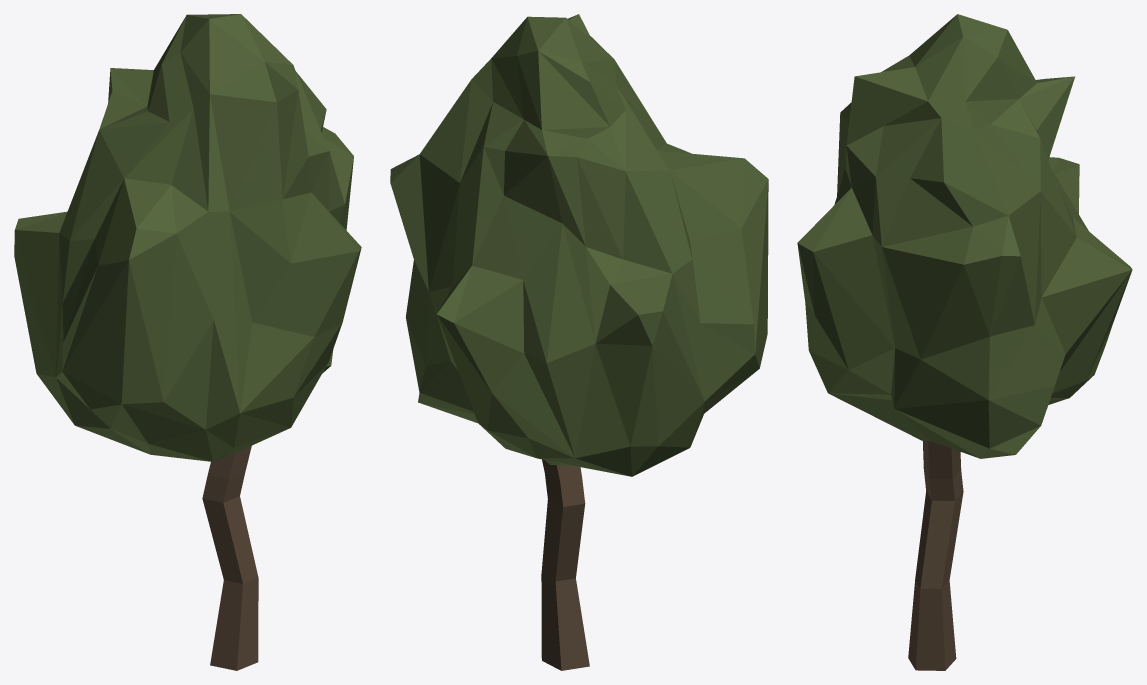
Rendered from Tree_085.fbx.
3 views of the same model, side by side, from view 1: azimuth 30°, elevation 25°; view 2: azimuth 150°, elevation 25°; view 3: azimuth 270°, elevation 25° (orthographic). The views are drawn at different scales.
Parts seen in each view (by area): view 1: Tree_085; view 2: Tree_085; view 3: Tree_085.
Part boxes in pixels (x1=…): Tree_085: x1=14, y1=14, x2=361, y2=670; Tree_085: x1=390, y1=14, x2=768, y2=670; Tree_085: x1=797, y1=14, x2=1132, y2=670.
Bounding box in the file's own units: 0.8501 × 1.65 × 0.7785.
Materials: 1 (1 with a texture image).
